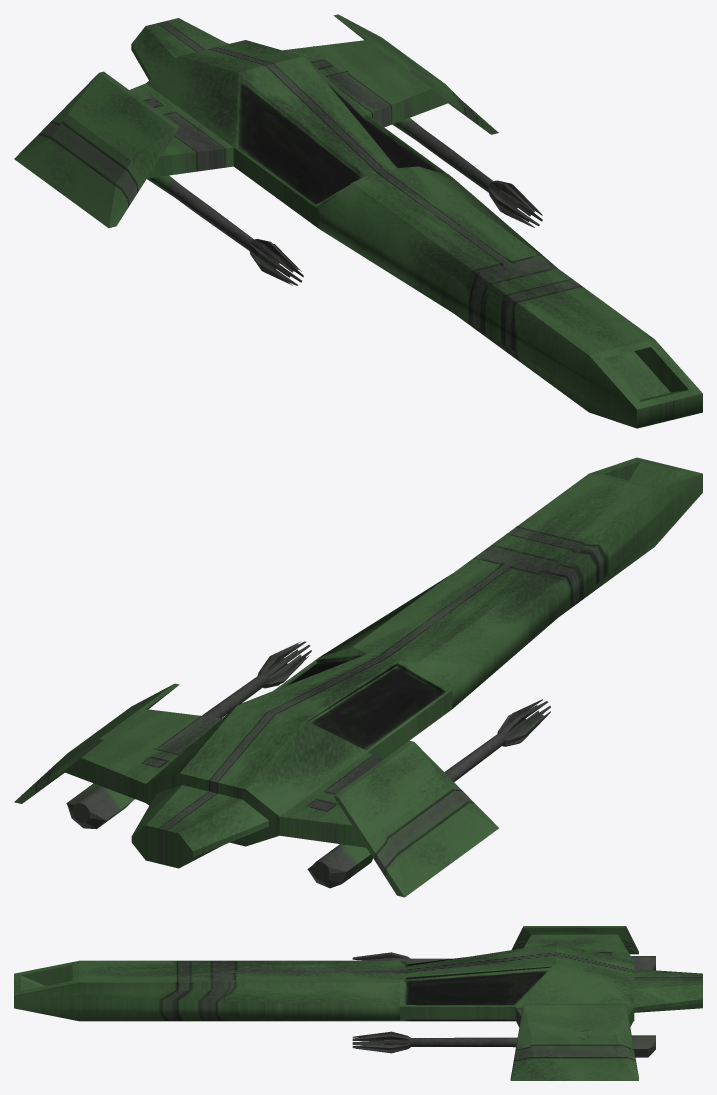
Rendered from shipndale team 1.FBX.
The picture shows the model from 3 angles, top to bottom: view 1: azimuth 30°, elevation 25°; view 2: azimuth 150°, elevation 25°; view 3: azimuth 270°, elevation 25°; orthographic projection. The views are drawn at different scales.
Visible parts, largest first — view 1: SHIP_N_DALE_RESCUE_SLANGERS:Box001; view 2: SHIP_N_DALE_RESCUE_SLANGERS:Box001; view 3: SHIP_N_DALE_RESCUE_SLANGERS:Box001.
Boxes of the visible parts, x1,y1,x2,y2 form: SHIP_N_DALE_RESCUE_SLANGERS:Box001: [14, 14, 702, 428]; SHIP_N_DALE_RESCUE_SLANGERS:Box001: [14, 457, 702, 897]; SHIP_N_DALE_RESCUE_SLANGERS:Box001: [14, 926, 702, 1080].
Bounding box in the file's own units: 73.31 × 16.91 × 165.
1 material, 1 textured.
